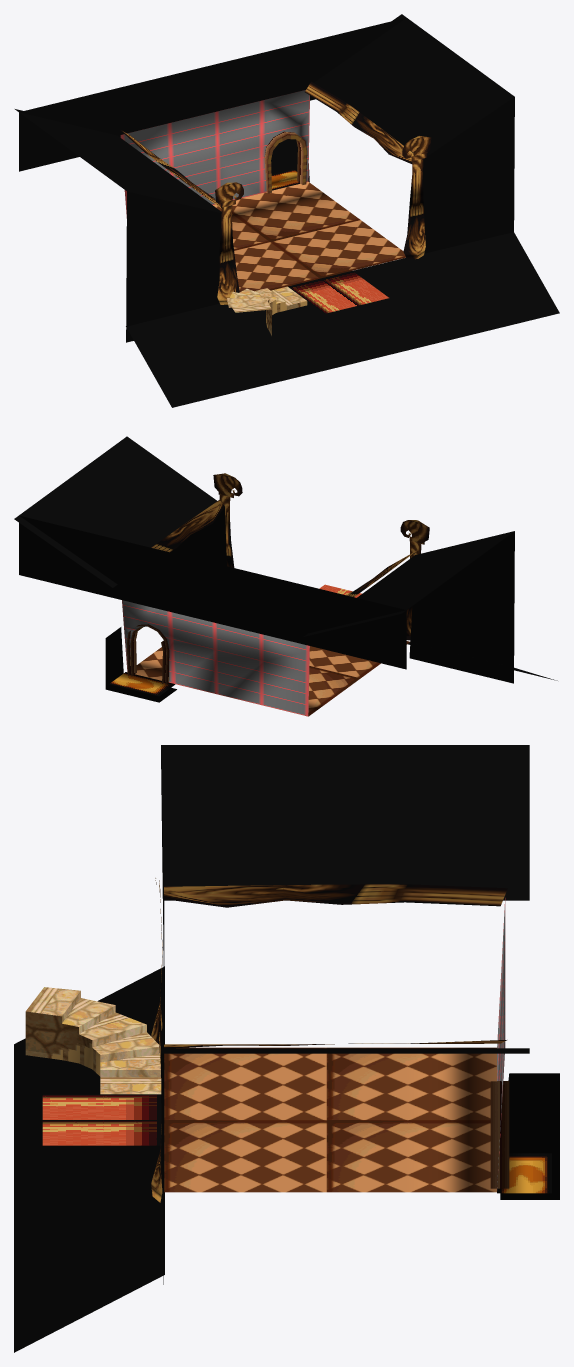
The picture shows the model from 3 angles, top to bottom: view 1: azimuth 30°, elevation 25°; view 2: azimuth 150°, elevation 25°; view 3: azimuth 270°, elevation 25°; orthographic projection. The views are drawn at different scales.
Parts seen in each view (by area): view 1: sh_pc_s01; view 2: sh_pc_s01; view 3: sh_pc_s01.
Boxes of the visible parts, x1,y1,x2,y2 form: sh_pc_s01: (15, 14, 559, 407); sh_pc_s01: (14, 436, 557, 716); sh_pc_s01: (14, 745, 559, 1352).
Size of the model in its own units: 9 by 4.07 by 6.73.
Materials: 10 (10 with a texture image).
